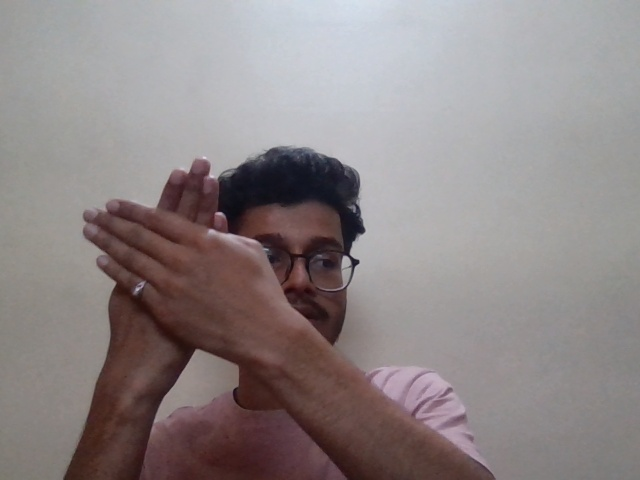what: (68, 155, 327, 351)
